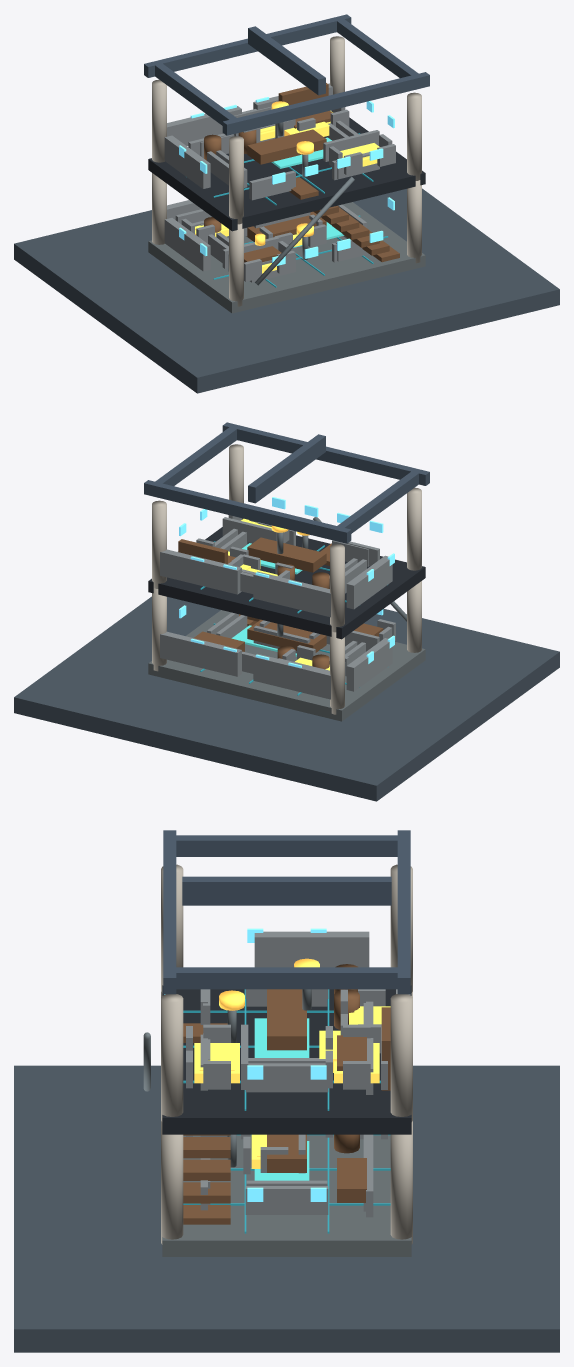
The picture shows the model from 3 angles, top to bottom: view 1: azimuth 30°, elevation 25°; view 2: azimuth 150°, elevation 25°; view 3: azimuth 270°, elevation 25°; orthographic projection. The views are drawn at different scales.
Visible parts, largest first — view 1: ProfileGround.011, BuildingFloor_1.006, BuildingFloor_2.006, RoofEaveSouth_visual_inn, RoofEaveNorth_visual_inn, RoofRidge_visual_inn, CivicTable_visual_inn_1, RoofEaveWest_visual_inn, RoofEaveEast_visual_inn, SideWall_2.006, SideWall_1.006, Column_2_1_-1.006 (+12 smaller); view 2: ProfileGround.011, BuildingFloor_2.006, BuildingFloor_1.006, RoofEaveNorth_visual_inn, RoofEaveSouth_visual_inn, BackWall_1_1.006, BackWall_2_1.006, BackWall_1_-1.006, BackWall_2_-1.006, RoofRidge_visual_inn, CivicTable_visual_inn_1, RoofEaveWest_visual_inn (+13 smaller); view 3: ProfileGround.011, BuildingFloor_1.006, BuildingFloor_2.006, RoofRidge_visual_inn, RoofEaveEast_visual_inn, RoofEaveWest_visual_inn, SideWall_2.006, Column_2_1_-1.006, Column_2_1_1.006, Column_1_1_-1.006, Column_1_1_1.006, CivicTable_visual_inn_1 (+19 smaller).
Part boxes in pixels (<box>): ProfileGround.011: <box>14,188,559,393</box>; BuildingFloor_1.006: <box>148,202,425,313</box>; BuildingFloor_2.006: <box>148,117,425,231</box>; RoofEaveSouth_visual_inn: <box>222,72,429,135</box>; RoofEaveNorth_visual_inn: <box>144,14,351,77</box>; RoofRidge_visual_inn: <box>248,26,325,95</box>; CivicTable_visual_inn_1: <box>247,129,326,164</box>; RoofEaveWest_visual_inn: <box>155,63,236,125</box>; RoofEaveEast_visual_inn: <box>337,19,418,78</box>; SideWall_2.006: <box>164,135,210,188</box>; SideWall_1.006: <box>164,218,210,271</box>; Column_2_1_-1.006: <box>407,92,421,180</box>; ProfileGround.011: <box>14,596,559,801</box>; BuildingFloor_2.006: <box>148,527,425,639</box>; BuildingFloor_1.006: <box>148,610,425,721</box>; RoofEaveNorth_visual_inn: <box>144,480,351,543</box>; RoofEaveSouth_visual_inn: <box>222,422,429,485</box>; BackWall_1_1.006: <box>160,631,241,676</box>; BackWall_2_1.006: <box>160,549,241,594</box>; BackWall_1_-1.006: <box>253,654,330,699</box>; BackWall_2_-1.006: <box>253,571,330,617</box>; RoofRidge_visual_inn: <box>248,434,325,503</box>; CivicTable_visual_inn_1: <box>247,537,326,572</box>; RoofEaveWest_visual_inn: <box>337,471,418,533</box>; ProfileGround.011: <box>14,1065,559,1352</box>; BuildingFloor_1.006: <box>162,1135,411,1256</box>; BuildingFloor_2.006: <box>162,985,411,1134</box>; RoofRidge_visual_inn: <box>182,876,391,905</box>; RoofEaveEast_visual_inn: <box>176,967,399,989</box>; RoofEaveWest_visual_inn: <box>174,835,399,856</box>; SideWall_2.006: <box>254,931,369,967</box>; Column_2_1_-1.006: <box>161,994,183,1121</box>; Column_2_1_1.006: <box>390,994,412,1121</box>; Column_1_1_-1.006: <box>161,1121,183,1244</box>; Column_1_1_1.006: <box>390,1121,412,1244</box>; CivicTable_visual_inn_1: <box>267,989,306,1050</box>.
Bounding box in the file's own units: 4.8 × 2.9 × 4.2.
